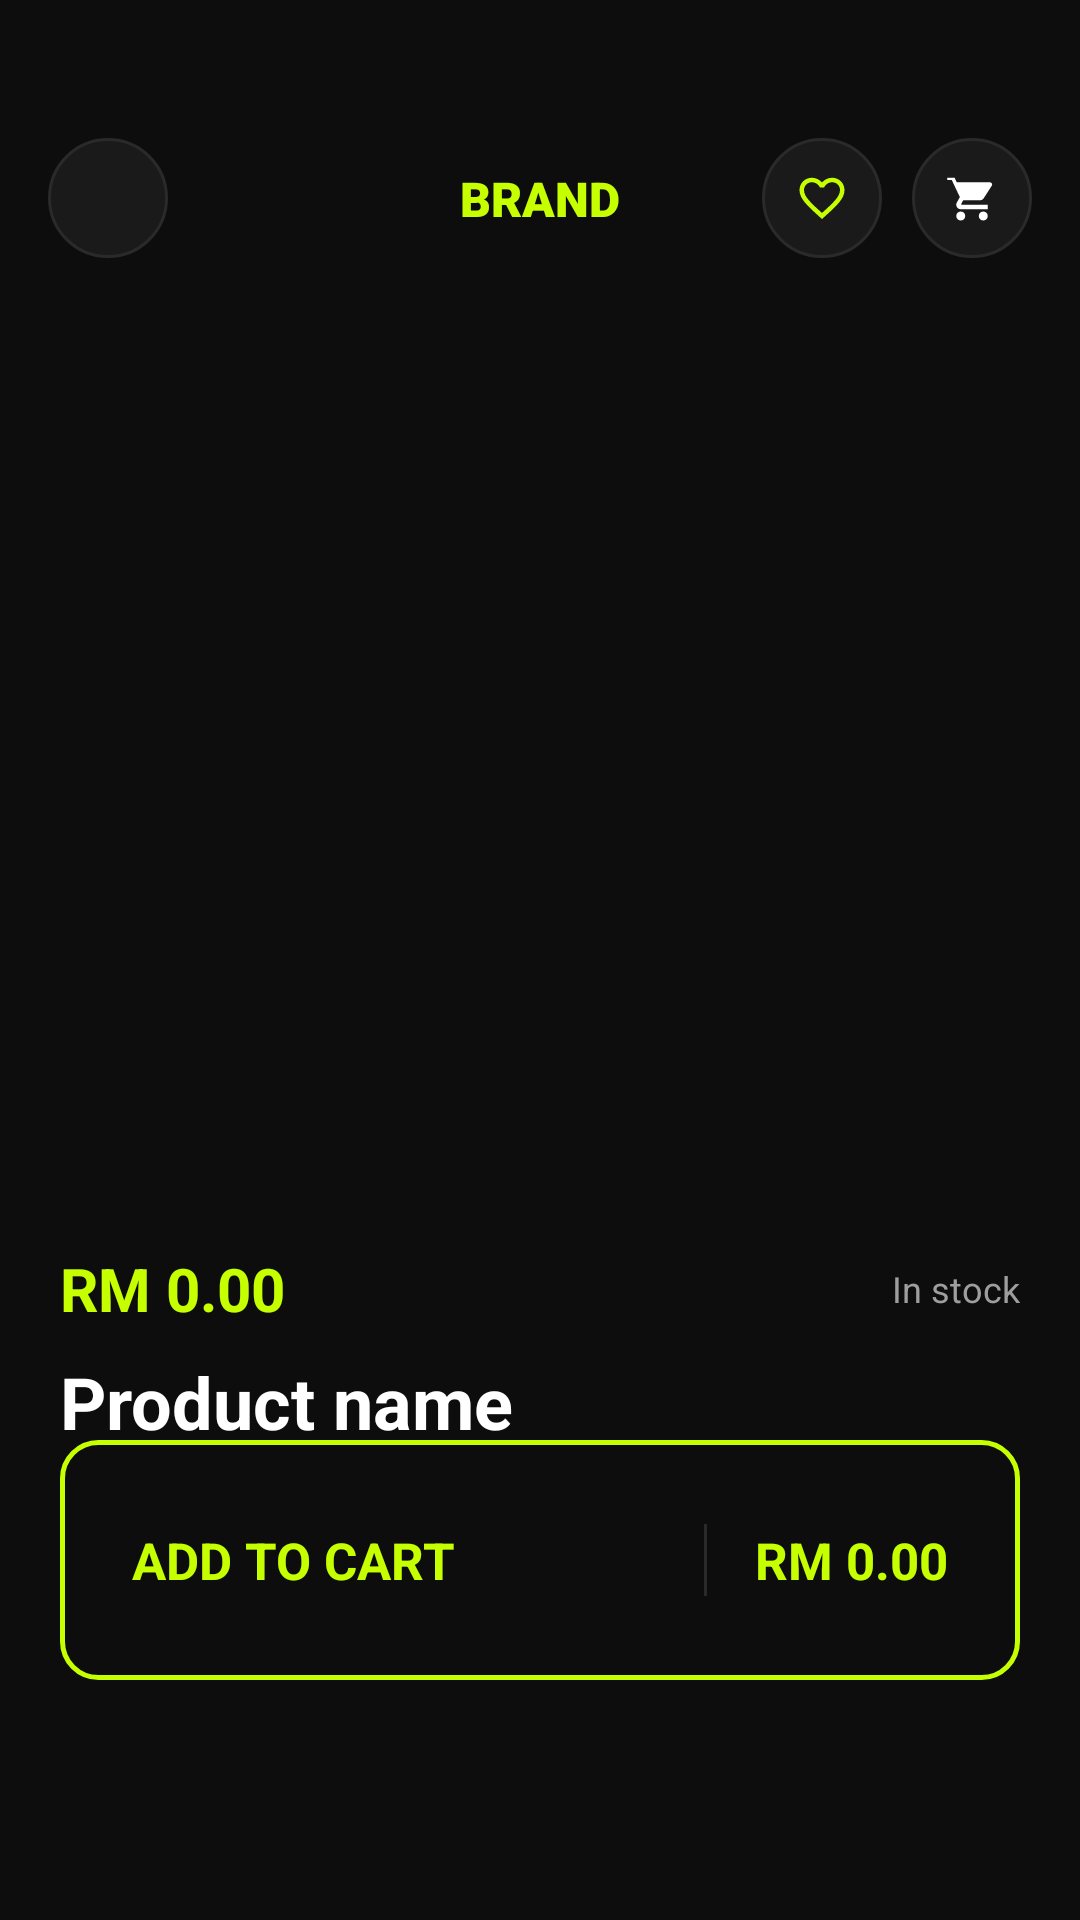

Where to tap for icons on this 1080*1920 app screen, as point (x, y):
cart: point (969, 199)
heart: point (822, 198)
